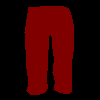bermuda: (24, 6, 74, 94)
